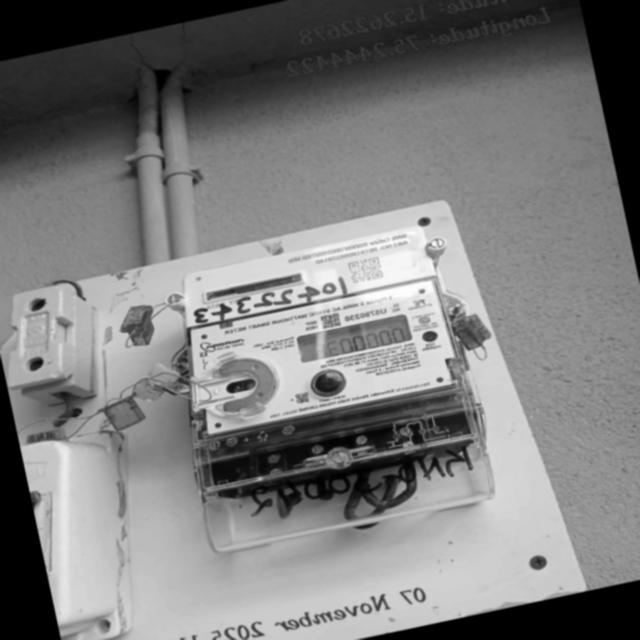meter: (165, 222, 462, 441)
